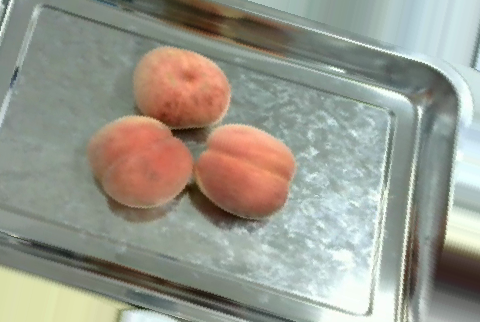Peach: (86, 114, 192, 208), (195, 122, 295, 220), (131, 46, 231, 128)
